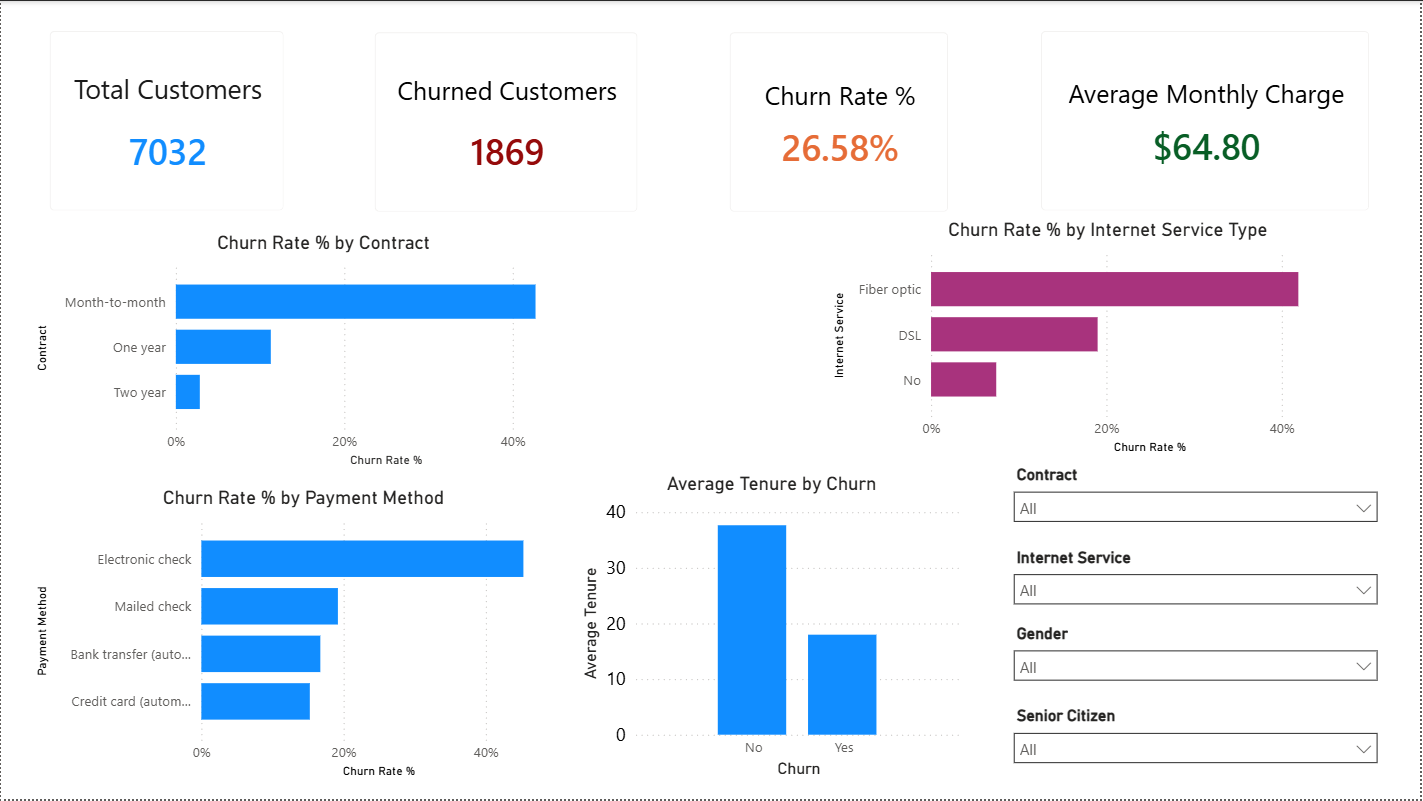

Layout of this report page (visuals, bound fields, positions):
{"tool":"powerbi","page":{"name":"Page 1","canvas":[1280,720],"ordinal":0},"visuals":[{"type":"cardVisual","fields":{"Data":["churn_cleaned.Total Customers"]},"box":[27.1,10.1,245.7,196.1],"z":0},{"type":"cardVisual","fields":{"Data":["churn_cleaned.Churned Customers"]},"box":[320.1,11.3,271.6,196.1],"z":1000},{"type":"cardVisual","fields":{"Data":["churn_cleaned.Churn Rate %"]},"box":[640.2,11.3,231.1,196.1],"z":2000},{"type":"cardVisual","title":"Average Monthly Charge","fields":{"Data":["churn_cleaned.Average monthly charge"]},"box":[920.9,10.1,330.2,196.1],"z":3000},{"type":"clusteredBarChart","fields":{"Category":["churn_cleaned.Contract"],"Y":["churn_cleaned.Churn Rate %"]},"box":[27.1,207.4,527.5,217.5],"z":4000},{"type":"clusteredBarChart","title":"Churn Rate % by Internet Service Type","fields":{"Category":["churn_cleaned.InternetService"],"Y":["churn_cleaned.Churn Rate %"]},"box":[745,196.1,506.1,217.5],"z":5000},{"type":"clusteredBarChart","title":"Churn Rate % by Payment Method","fields":{"Category":["churn_cleaned.PaymentMethod"],"Y":["churn_cleaned.Churn Rate %"]},"box":[27.1,437.3,491.4,268.3],"z":6000},{"type":"clusteredColumnChart","title":"Average Tenure by Churn","fields":{"Y":["Avg(churn_cleaned.tenure)"],"Category":["churn_cleaned.Churn"]},"box":[518.5,424.9,352.8,280.7],"z":7000},{"type":"slicer","fields":{"Values":["churn_cleaned.Contract"]},"box":[902.8,413.7,348.3,64.2],"z":8000},{"type":"slicer","fields":{"Values":["churn_cleaned.InternetService"]},"box":[902.8,488,348.3,68.8],"z":9000},{"type":"slicer","fields":{"Values":["churn_cleaned.gender"]},"box":[902.8,556.8,348.3,59.7],"z":10000},{"type":"slicer","fields":{"Values":["churn_cleaned.Senior Citizen Label"]},"box":[902.8,631.2,348.3,74.4],"z":11000}]}

Visuals, with their boxes in screenshot pixels (x1, y1, x2, y2), scaled from the page's 1280x720 canvas onto the 1423x801 screenshot:
cardVisual - churn_cleaned.Total Customers: <box>30,11,303,229</box>
cardVisual - churn_cleaned.Churned Customers: <box>356,13,658,231</box>
cardVisual - churn_cleaned.Churn Rate %: <box>712,13,969,231</box>
"Average Monthly Charge" cardVisual: <box>1024,11,1391,229</box>
clusteredBarChart - churn_cleaned.Contract x churn_cleaned.Churn Rate %: <box>30,231,617,473</box>
"Churn Rate % by Internet Service Type" clusteredBarChart: <box>828,218,1391,460</box>
"Churn Rate % by Payment Method" clusteredBarChart: <box>30,486,576,785</box>
"Average Tenure by Churn" clusteredColumnChart: <box>576,473,969,785</box>
slicer - churn_cleaned.Contract: <box>1004,460,1391,532</box>
slicer - churn_cleaned.InternetService: <box>1004,543,1391,619</box>
slicer - churn_cleaned.gender: <box>1004,619,1391,686</box>
slicer - churn_cleaned.Senior Citizen Label: <box>1004,702,1391,785</box>
